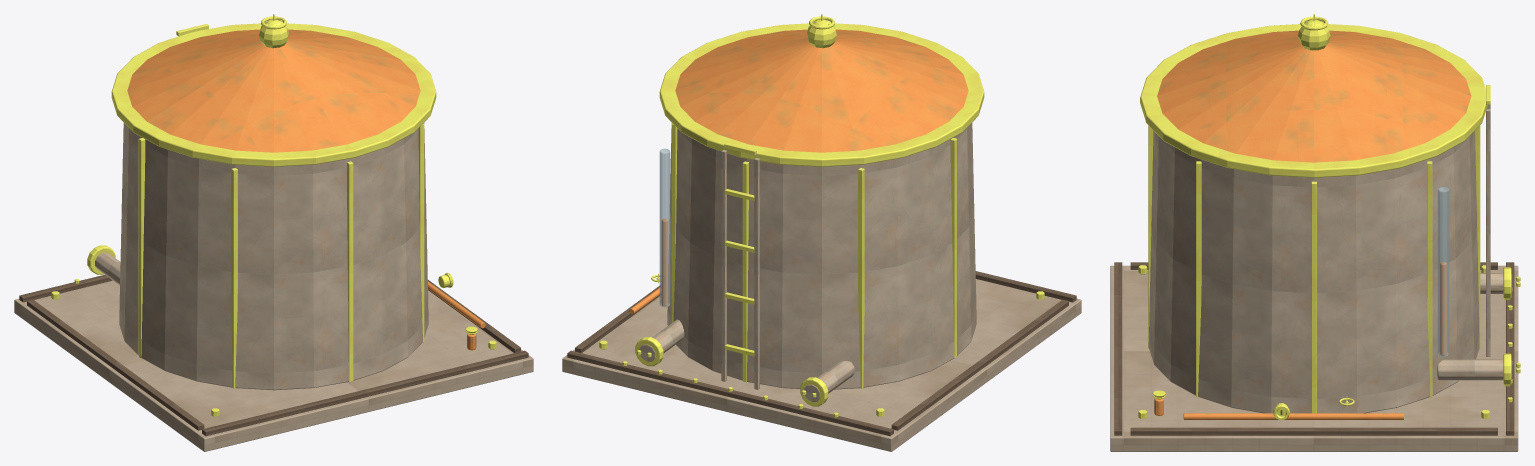
Rendered from ff-tank.glb.
3 views of the same model, side by side, from view 1: azimuth 30°, elevation 25°; view 2: azimuth 150°, elevation 25°; view 3: azimuth 270°, elevation 25° (orthographic). The views are drawn at different scales.
Visible parts, largest first — view 1: Shell, PadPipe.013, Pad.013, Bolt.021, PadLipN.013, VentLip.015; view 2: Shell, PadPipe.013, Pad.013, Bolt.021, PadLipN.013, LadderRail, GaugeGlass.014, GaugeFluid, VentLip.015; view 3: Shell, PadPipe.013, Pad.013, Bolt.021, PadLipN.013, GaugeGlass.014, LadderRail, VentLip.015, GaugeFluid.
Boxes of the visible parts, x1,y1,x2,y2 form: Shell: [95, 123, 428, 390]; PadPipe.013: [127, 29, 485, 350]; Pad.013: [14, 280, 533, 451]; Bolt.021: [51, 14, 496, 416]; PadLipN.013: [19, 274, 528, 436]; VentLip.015: [259, 19, 477, 334]; Shell: [639, 123, 976, 401]; PadPipe.013: [629, 29, 968, 314]; Pad.013: [562, 279, 1081, 451]; Bolt.021: [599, 14, 1044, 417]; PadLipN.013: [567, 271, 1076, 436]; LadderRail: [721, 149, 759, 389]; GaugeGlass.014: [659, 148, 670, 307]; GaugeFluid: [661, 218, 668, 306]; VentLip.015: [807, 19, 836, 48]; Shell: [1148, 130, 1512, 413]; PadPipe.013: [1154, 30, 1471, 419]; Pad.013: [1110, 265, 1518, 451]; Bolt.021: [1138, 14, 1520, 418]; PadLipN.013: [1114, 262, 1514, 435]; GaugeGlass.014: [1437, 187, 1449, 356]; LadderRail: [1486, 105, 1490, 356]; VentLip.015: [1153, 19, 1330, 420]; GaugeFluid: [1440, 262, 1446, 355].
Size of the model in its own units: 3 by 2.86 by 3.02.
10 materials, 9 textured.
